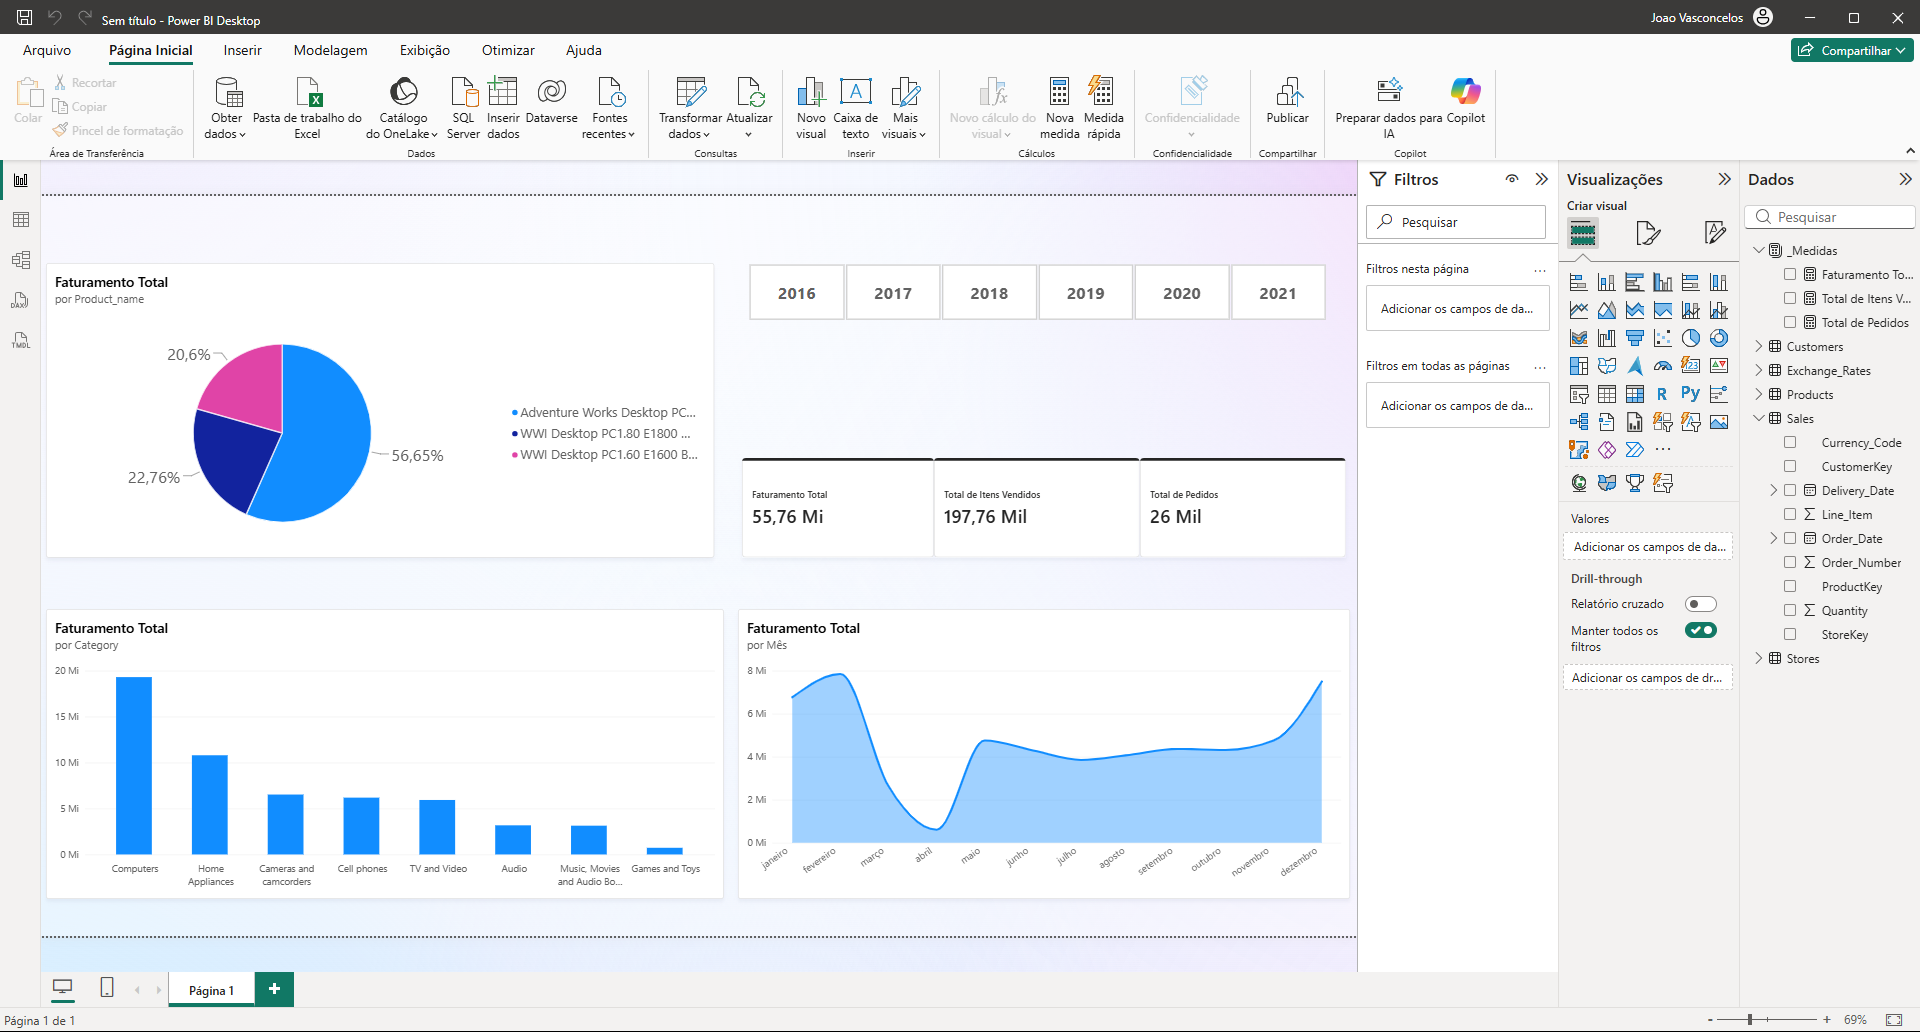

Layout of this report page (visuals, bound fields, positions):
{"tool":"powerbi","page":{"name":"Página 1","canvas":[1920,1080],"ordinal":0},"visuals":[{"type":"cardVisual","fields":{"Data":["_Medidas.Faturamento Total"]},"box":[1022.7,382.2,280.1,145.9],"z":0},{"type":"cardVisual","fields":{"Data":["_Medidas.Total de Itens Vendidos"]},"box":[1302.9,382.2,300.5,145.9],"z":1000},{"type":"cardVisual","fields":{"Data":["_Medidas.Total de Pedidos"]},"box":[1603.4,382.2,300.5,145.9],"z":2000},{"type":"columnChart","fields":{"Category":["Products.Category"],"Y":["_Medidas.Faturamento Total","select","select1"]},"box":[7.3,602.6,989.2,423.1],"z":3000},{"type":"areaChart","fields":{"Category":["Sales.Order_Date.Variation.Hierarquia de datas.Mês"],"Y":["_Medidas.Faturamento Total"]},"box":[1016.9,602.6,892.9,423.1],"z":4000},{"type":"pieChart","fields":{"Category":["Products.Product_name"],"Y":["_Medidas.Faturamento Total"]},"box":[7.3,97.8,974.6,430.4],"z":5000},{"type":"slicer","fields":{"Values":["Sales.Order_Date.Variation.Hierarquia de datas.Ano"]},"box":[1012.5,97.8,881.2,84.6],"z":6000}]}

Visuals, with their boxes on the page's 1920x1080 design canvas (x1, y1, x2, y2). These are canvas units, not pixel positions in the 1920x1032 screenshot, which may show the page scaled, cropped or inside an application window:
cardVisual - _Medidas.Faturamento Total: pyautogui.locateOnScreen(1023, 382, 1303, 528)
cardVisual - _Medidas.Total de Itens Vendidos: pyautogui.locateOnScreen(1303, 382, 1603, 528)
cardVisual - _Medidas.Total de Pedidos: pyautogui.locateOnScreen(1603, 382, 1904, 528)
columnChart - Products.Category x _Medidas.Faturamento Total: pyautogui.locateOnScreen(7, 603, 996, 1026)
areaChart - Sales.Order_Date.Variation.Hierarquia de datas.Mês x _Medidas.Faturamento Total: pyautogui.locateOnScreen(1017, 603, 1910, 1026)
pieChart - Products.Product_name x _Medidas.Faturamento Total: pyautogui.locateOnScreen(7, 98, 982, 528)
slicer - Sales.Order_Date.Variation.Hierarquia de datas.Ano: pyautogui.locateOnScreen(1012, 98, 1894, 182)
